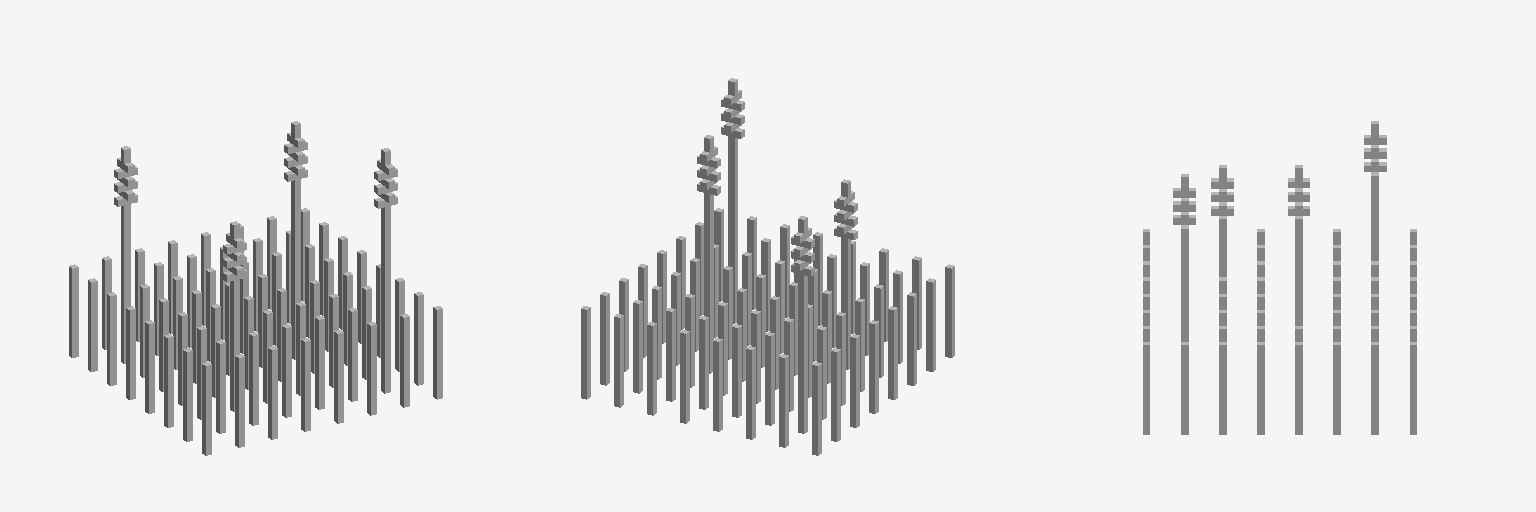
The model's file is wheat_damaged.obj.
The picture shows the model from 3 angles: view 1: azimuth 30°, elevation 25°; view 2: azimuth 150°, elevation 25°; view 3: azimuth 270°, elevation 25°; orthographic projection.
Visible parts, largest first — view 1: wheat_damaged; view 2: wheat_damaged; view 3: wheat_damaged.
Boxes of the visible parts, x1,y1,x2,y2 form: wheat_damaged: [69, 121, 442, 455]; wheat_damaged: [581, 78, 954, 455]; wheat_damaged: [1143, 121, 1416, 434].
Size of the model in its own units: 36 by 35 by 36.